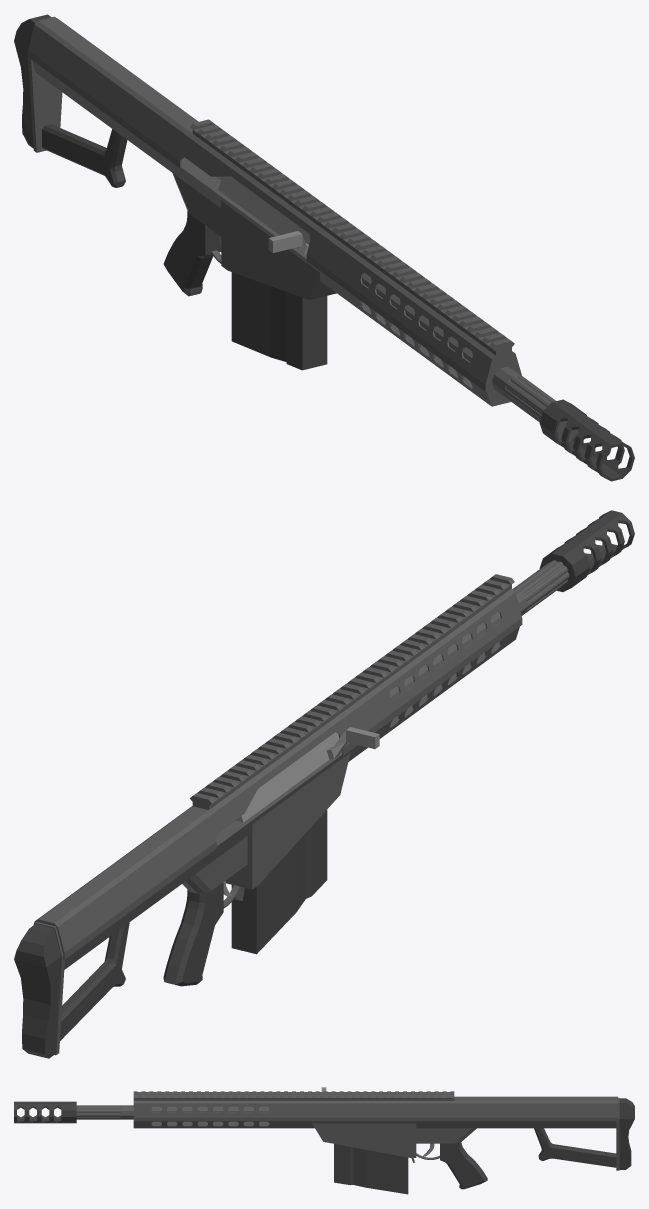
File: gun_m107.glb
3 views of the same model, one above another, from view 1: azimuth 30°, elevation 25°; view 2: azimuth 150°, elevation 25°; view 3: azimuth 270°, elevation 25° (orthographic). The views are drawn at different scales.
Visible parts, largest first — view 1: sniper_03_0, Magazin_0, Bolt_0; view 2: sniper_03_0, Magazin_0, Bolt_0; view 3: sniper_03_0, Magazin_0.
Part boxes in pixels (x1=…): sniper_03_0: x1=14, y1=14, x2=634, y2=481; Magazin_0: x1=231, y1=272, x2=327, y2=370; Bolt_0: x1=186, y1=158, x2=310, y2=255; sniper_03_0: x1=14, y1=510, x2=634, y2=1058; Magazin_0: x1=231, y1=810, x2=327, y2=954; Bolt_0: x1=218, y1=727, x2=379, y2=832; sniper_03_0: x1=14, y1=1091, x2=634, y2=1189; Magazin_0: x1=334, y1=1144, x2=408, y2=1194.
Bounding box in the file's own units: 0.087 × 0.2151 × 1.24.
1 material, 1 textured.
